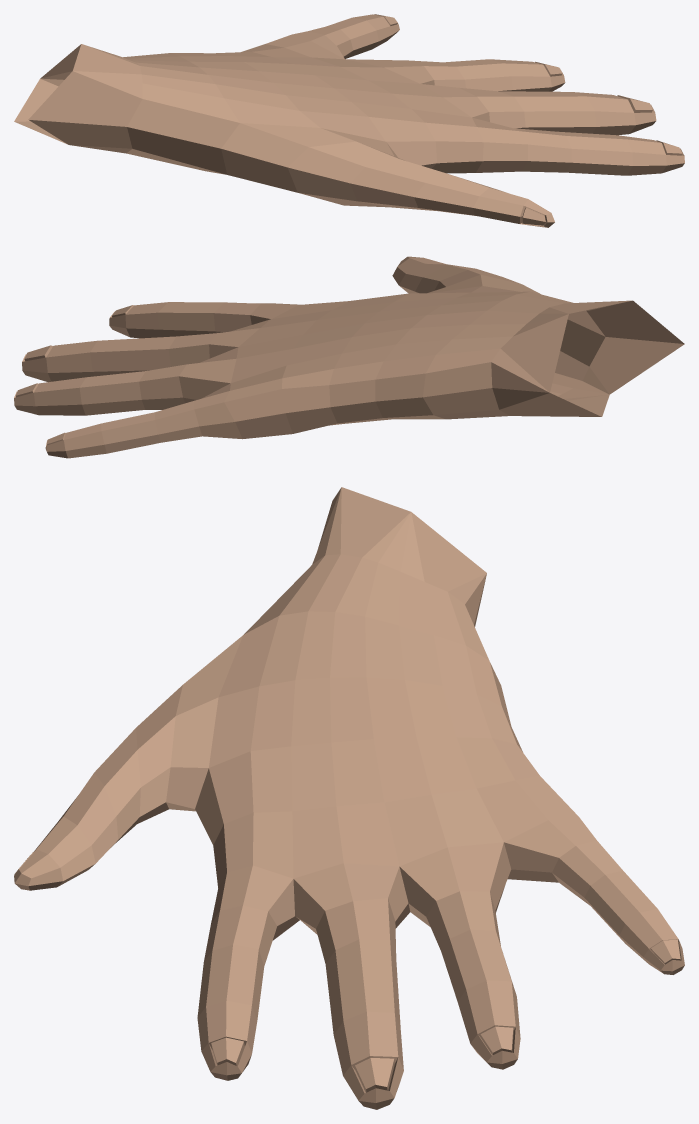
Rendered from mano_HP.obj.
The picture shows the model from 3 angles, top to bottom: view 1: azimuth 30°, elevation 25°; view 2: azimuth 150°, elevation 25°; view 3: azimuth 270°, elevation 25°; orthographic projection. The views are drawn at different scales.
Visible parts, largest first — view 1: Object001; view 2: Object001; view 3: Object001.
Part boxes in pixels (x1=…): Object001: x1=14, y1=14, x2=684, y2=227; Object001: x1=14, y1=256, x2=684, y2=458; Object001: x1=14, y1=487, x2=684, y2=1109.
Size of the model in its own units: 18.96 by 5.87 by 13.63.
